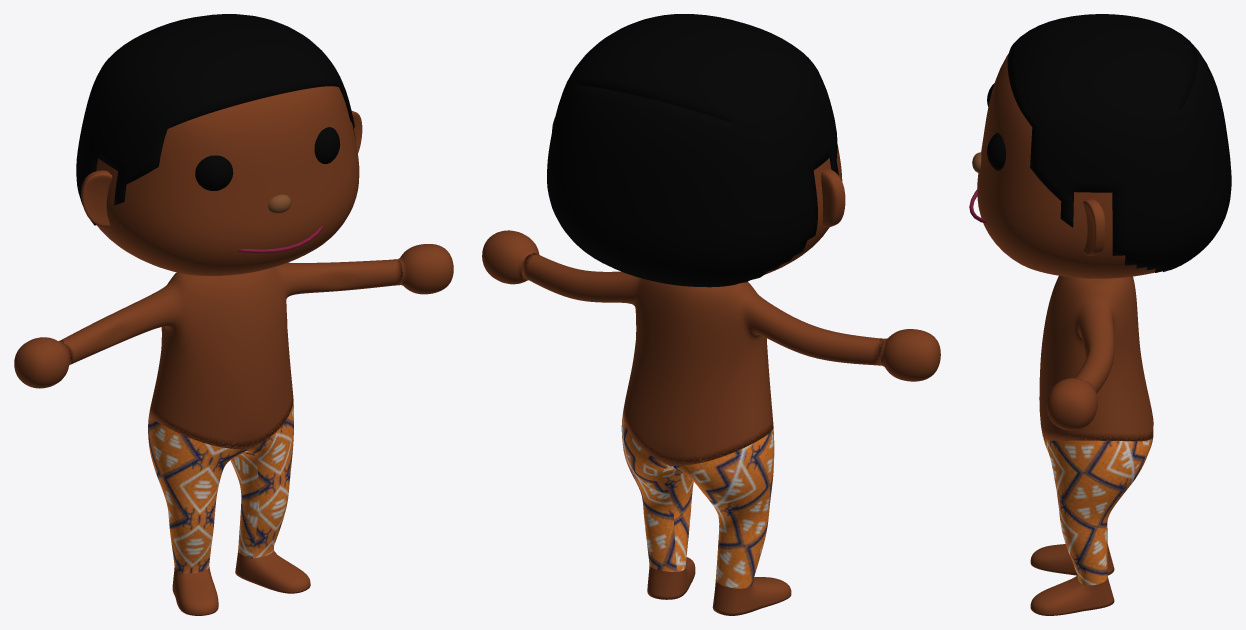
Rendered from Main Character.fbx.
The picture shows the model from 3 angles, left to right: view 1: azimuth 30°, elevation 25°; view 2: azimuth 150°, elevation 25°; view 3: azimuth 270°, elevation 25°; orthographic projection. The views are drawn at different scales.
Visible parts, largest first — view 1: Object_7, Sphere; view 2: Object_7; view 3: Object_7, Sphere.
Boxes of the visible parts, x1,y1,x2,y2 form: Object_7: (14, 14, 453, 615); Sphere: (195, 127, 340, 190); Object_7: (482, 14, 940, 615); Object_7: (969, 14, 1231, 615); Sphere: (987, 83, 1005, 170).
Size of the model in its own units: 2581 by 3109 by 1341.
